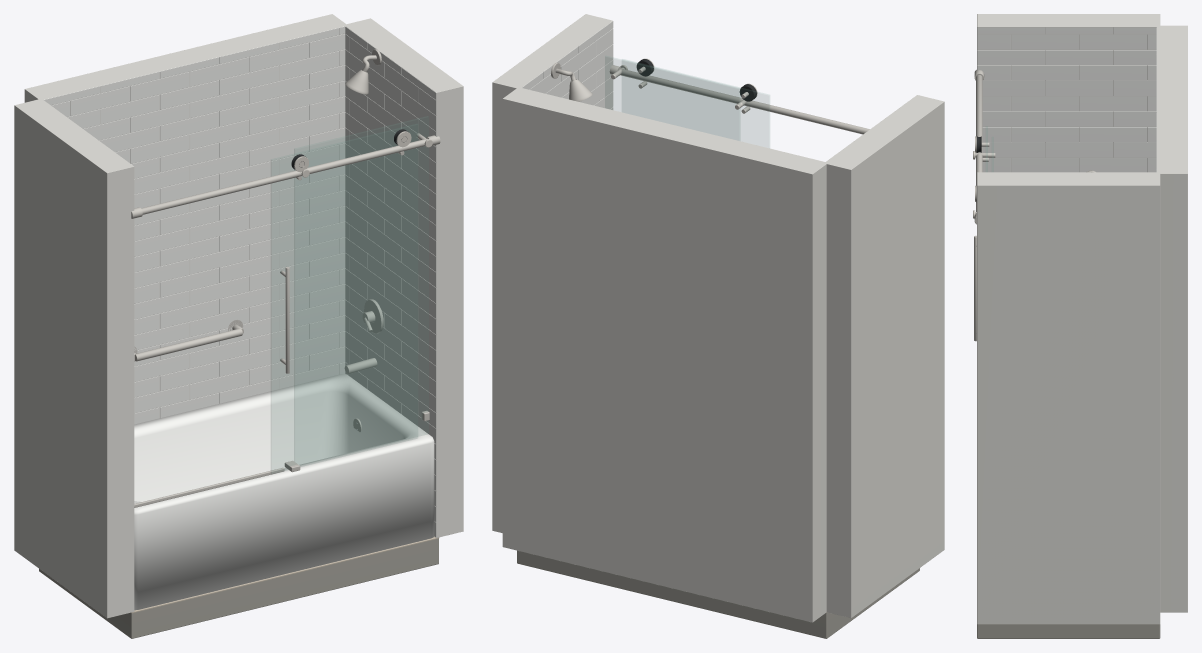
File: west-seattle-bathroom-renovation-three-bathrooms-guest.glb
3 renders of one model, left to right at view 1: azimuth 30°, elevation 25°; view 2: azimuth 150°, elevation 25°; view 3: azimuth 270°, elevation 25°, orthographic. The views are drawn at different scales.
Visible parts, largest first — view 1: Subway tub surround · field tile, Tub left return · wall core, White alcove tub, Tub slider · moving glass, Tub screen · stationary glass, Tub valve wall · field tile, Tub valve wall · wall core, Subway tub surround · wall core, Guest tub footprint · foundation, Sliding door · round header, Grab rail, Guest tub footprint · finish (+1 smaller); view 2: Subway tub surround · wall core, Tub left return · wall core, Tub slider · moving glass, Tub valve wall · wall core, Tub screen · stationary glass, Guest tub footprint · foundation, Tub valve wall · field tile, Sliding door · round header; view 3: Tub valve wall · wall core, Tub left return · field tile, Subway tub surround · wall core, Tub left return · wall core, Guest tub footprint · foundation, Sliding door · round header, Vertical door pull.
Part boxes in pixels (<box>): Subway tub surround · field tile: <box>44,26,345,424</box>; Tub left return · wall core: <box>14,99,134,618</box>; White alcove tub: <box>134,374,434,610</box>; Tub slider · moving glass: <box>271,124,417,473</box>; Tub screen · stationary glass: <box>294,116,428,464</box>; Tub valve wall · field tile: <box>345,26,436,537</box>; Tub valve wall · wall core: <box>344,18,463,537</box>; Subway tub surround · wall core: <box>24,14,346,417</box>; Guest tub footprint · foundation: <box>39,538,438,638</box>; Sliding door · round header: <box>131,138,427,215</box>; Grab rail: <box>135,328,242,361</box>; Guest tub footprint · finish: <box>131,536,439,613</box>; Subway tub surround · wall core: <box>502,87,827,622</box>; Tub left return · wall core: <box>826,95,944,617</box>; Tub slider · moving glass: <box>622,59,769,147</box>; Tub valve wall · wall core: <box>492,14,612,532</box>; Tub screen · stationary glass: <box>605,56,739,140</box>; Guest tub footprint · foundation: <box>517,550,919,638</box>; Tub valve wall · field tile: <box>522,21,613,109</box>; Sliding door · round header: <box>618,68,869,134</box>; Tub valve wall · wall core: <box>977,172,1160,624</box>; Tub left return · field tile: <box>977,27,1156,172</box>; Subway tub surround · wall core: <box>1157,25,1187,612</box>; Tub left return · wall core: <box>977,14,1160,171</box>; Guest tub footprint · foundation: <box>977,624,1160,638</box>; Sliding door · round header: <box>976,75,982,211</box>; Vertical door pull: <box>974,235,976,341</box>.
Size of the model in its own units: 1.82 by 2.3 by 0.962.
